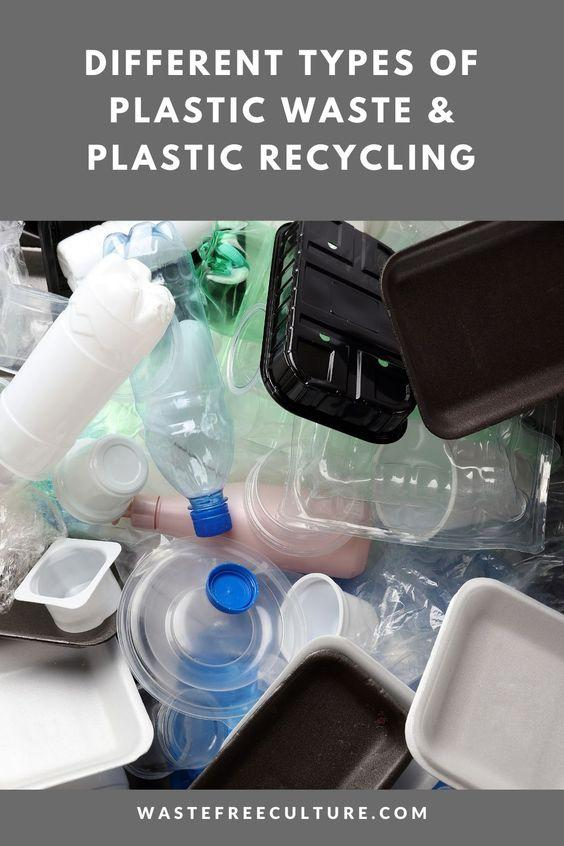HDPE: (128, 480, 374, 580), (203, 561, 260, 614), (188, 504, 234, 538)
PETE: (101, 221, 233, 502)
PP: (0, 253, 175, 482), (117, 534, 307, 721), (9, 532, 127, 634), (275, 572, 380, 664), (50, 432, 151, 526)
PS: (379, 220, 564, 440), (184, 634, 438, 791), (259, 221, 418, 444), (406, 576, 564, 790), (0, 634, 157, 789)
